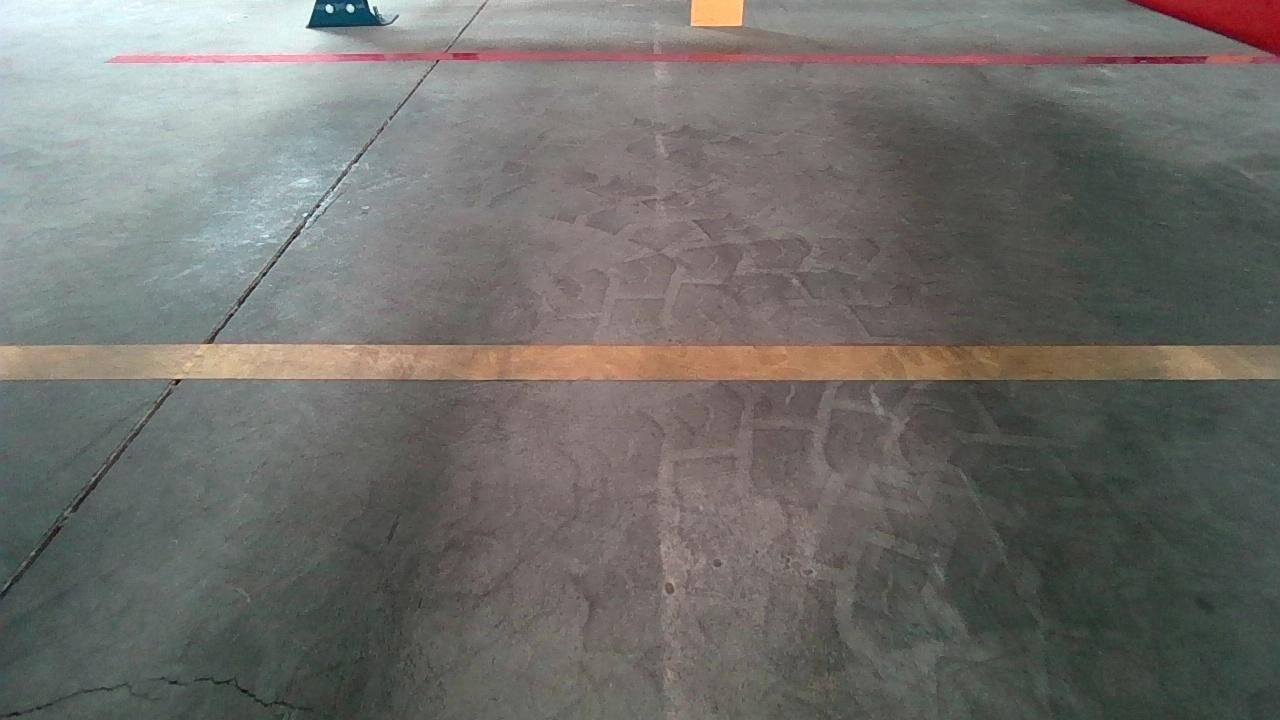red_line: (104, 52, 1280, 64)
yellow_line: (0, 343, 1280, 383)
